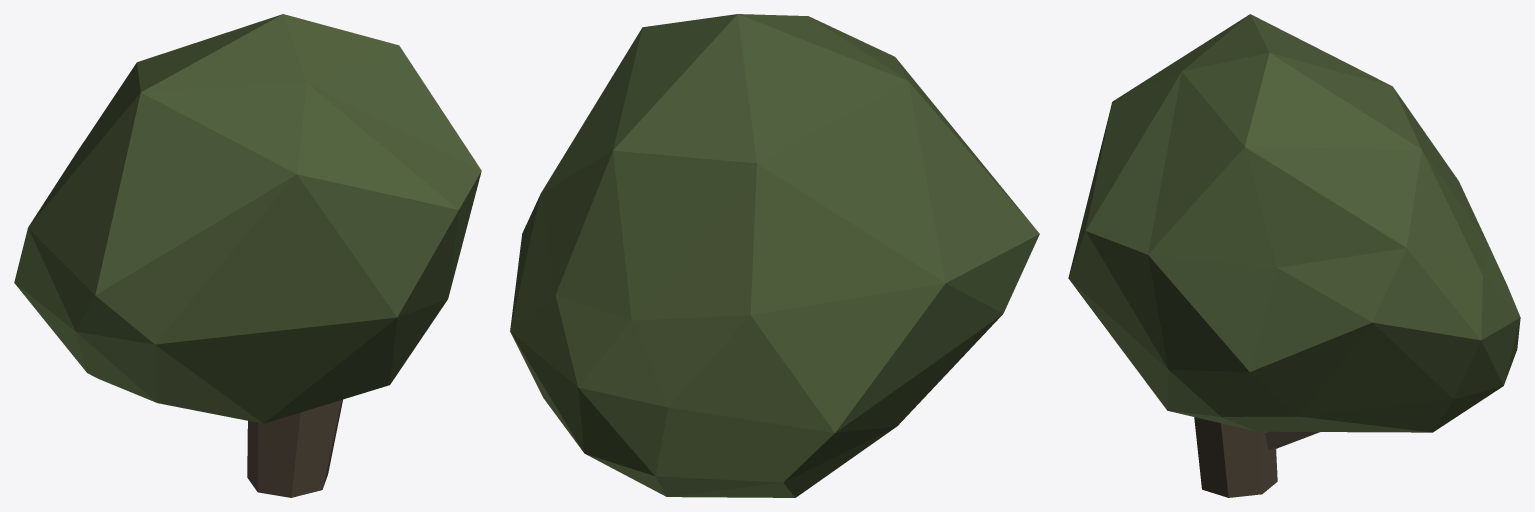
The model's file is Bushes D, 2.fbx.
The picture shows the model from 3 angles, left to right: view 1: azimuth 30°, elevation 25°; view 2: azimuth 150°, elevation 25°; view 3: azimuth 270°, elevation 25°; orthographic projection. The views are drawn at different scales.
Visible parts, largest first — view 1: Icosphere.002; view 2: Icosphere.002; view 3: Icosphere.002.
Boxes of the visible parts, x1,y1,x2,y2 form: Icosphere.002: (14,14,481,497); Icosphere.002: (510,14,1039,497); Icosphere.002: (1068,14,1520,497).
Bounding box in the file's own units: 454 × 495 × 466.
